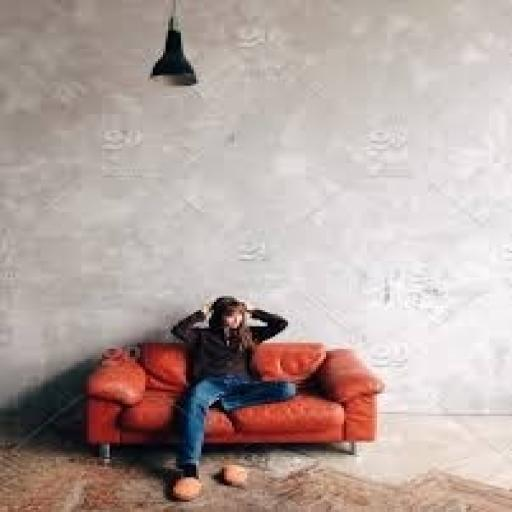sitting: (163, 294, 298, 502)
